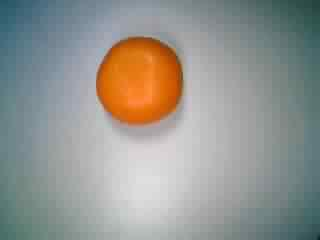orange: (91, 32, 186, 126)
